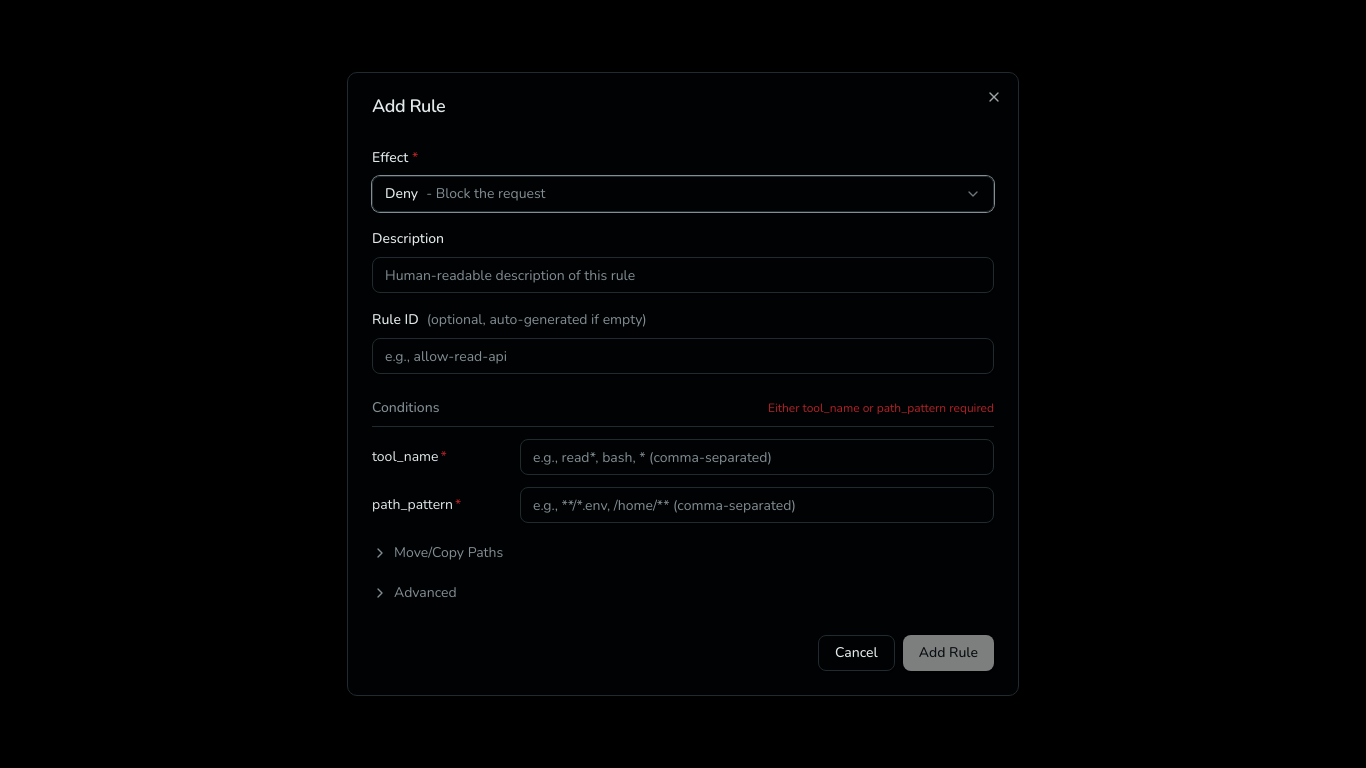
Scenario: RuleFormDialog › schema › uses fallback operations when schema fetch fails
The width and height of the screenshot is (1366, 768).
Note: Expand Advanced to see operations
Click the button "Advanced": click(414, 589) [372, 575, 457, 603]
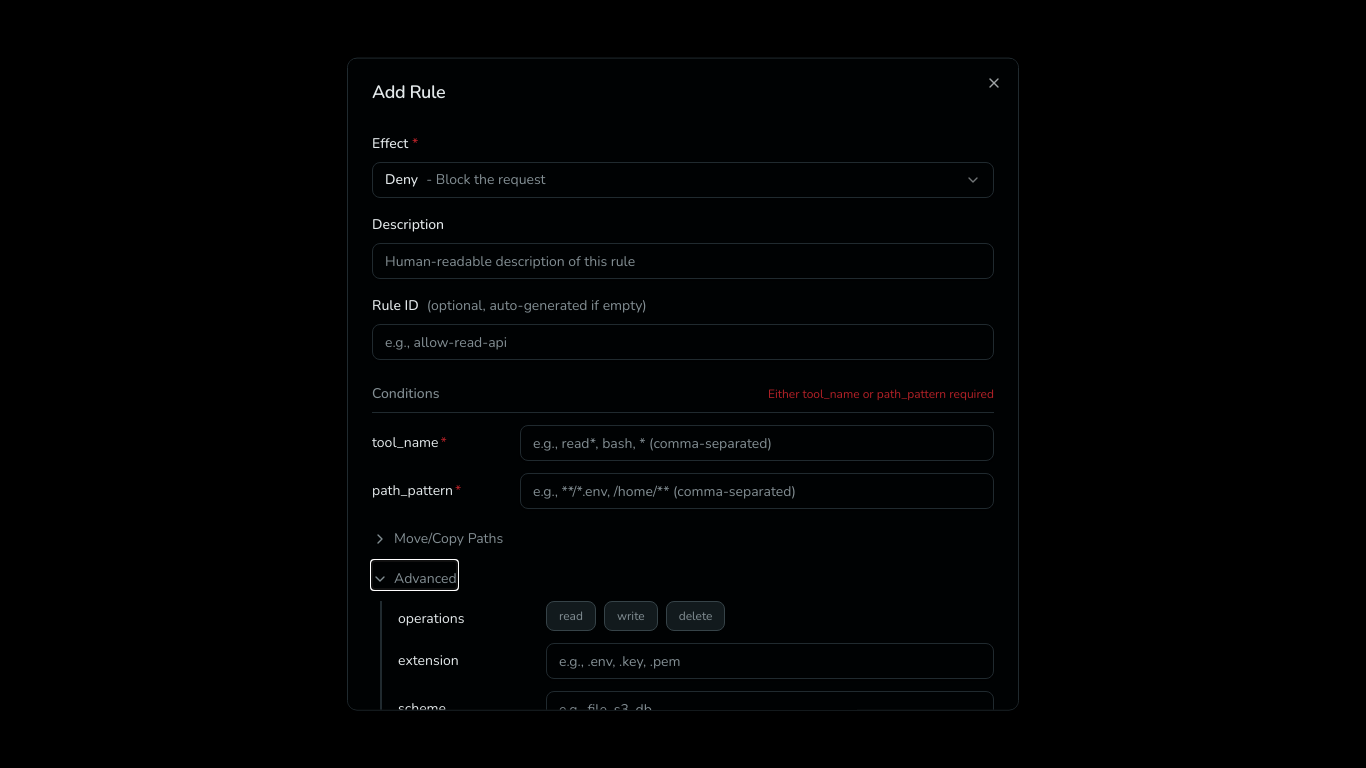
Result: the button "read" is shown at [546, 601, 596, 631]
Result: the button "write" is shown at [604, 601, 658, 631]
Result: the button "delete" is shown at [666, 601, 726, 631]
